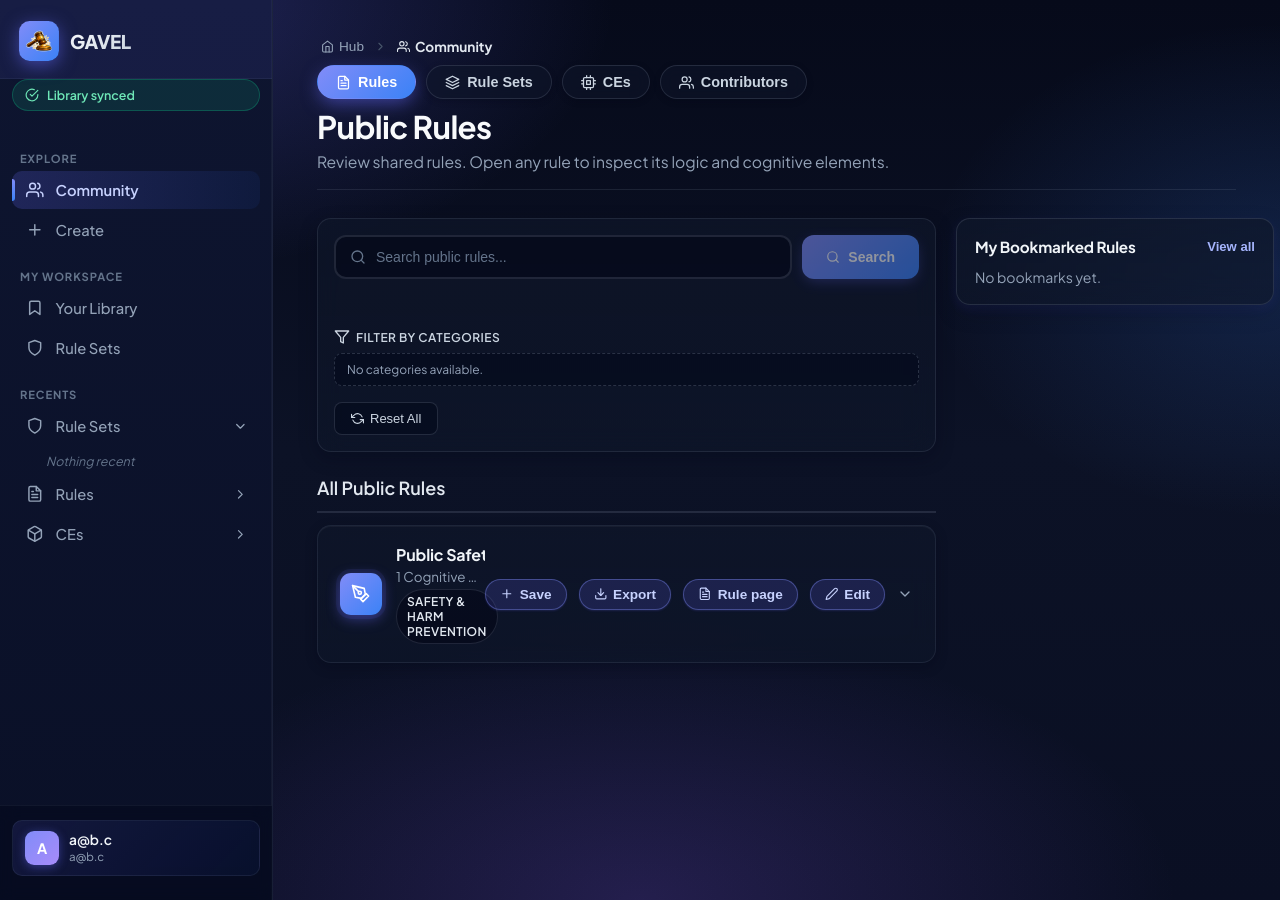
Browse — public & draft rule listing › expands a rule card to reveal its predicate
The width and height of the screenshot is (1280, 900).
Click the heading "Public Safety Rule Public" at {"x": 441, "y": 554}, box [396,544,485,565]
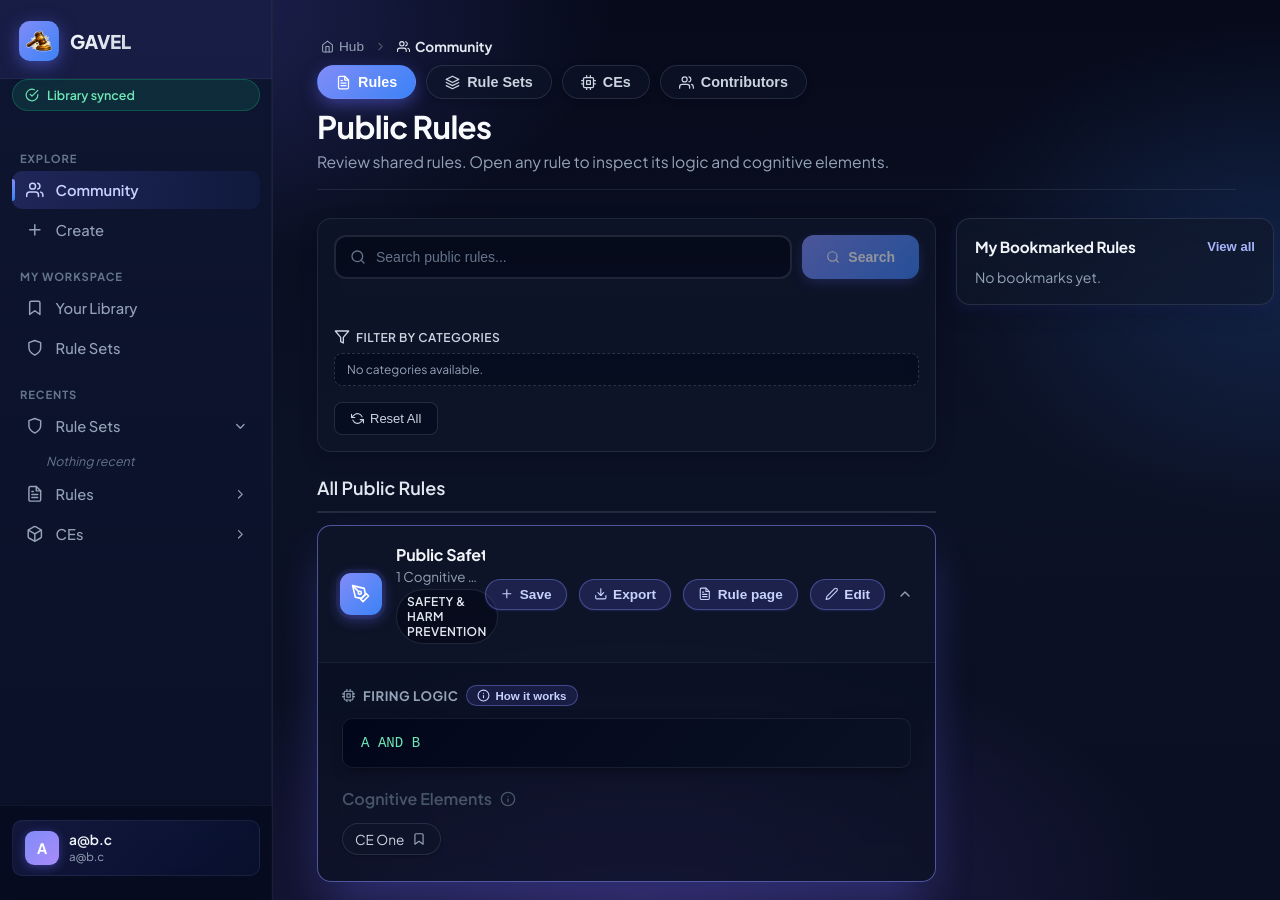
Check: the text "A AND B" is shown, box [342,718,911,768]
